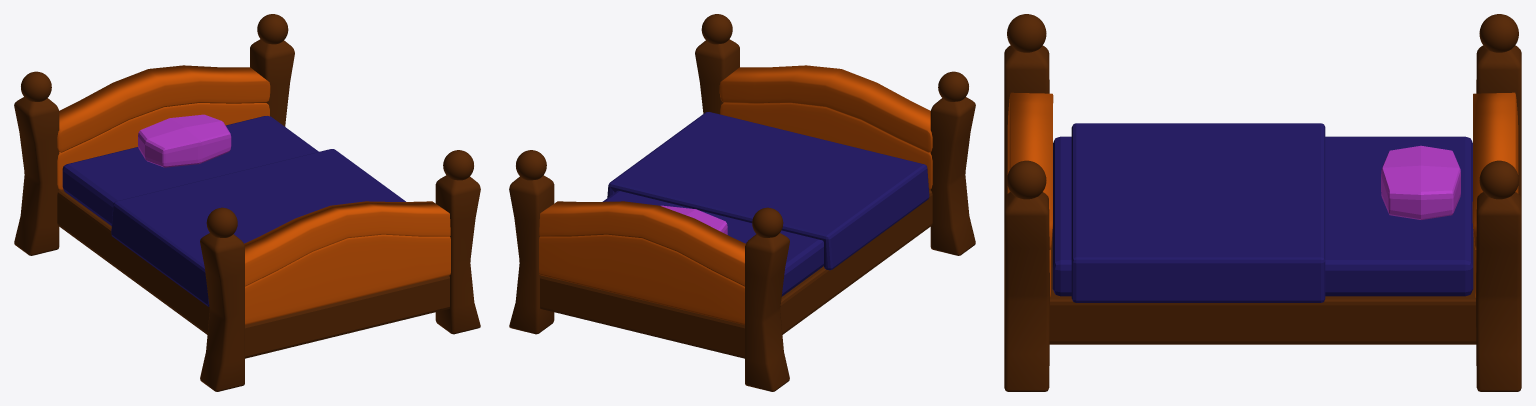
The model's file is cama_dibujo_animado.obj.
3 views of the same model, side by side, from view 1: azimuth 30°, elevation 25°; view 2: azimuth 150°, elevation 25°; view 3: azimuth 270°, elevation 25° (orthographic). The views are drawn at different scales.
Visible parts, largest first — view 1: head_board_and_foot_board, bed_legs, blanket, bed_base_, mattres, pillow; view 2: head_board_and_foot_board, blanket, bed_legs, bed_base_, mattres, pillow; view 3: blanket, bed_legs, mattres, bed_base_, head_board_and_foot_board, pillow.
Part boxes in pixels (x1,y1,x2,y2): head_board_and_foot_board: (57, 65, 450, 324); bed_legs: (14, 14, 480, 391); blanket: (111, 149, 405, 306); bed_base_: (57, 189, 449, 358); mattres: (62, 116, 318, 225); pillow: (138, 114, 231, 167); head_board_and_foot_board: (539, 65, 932, 324); blanket: (607, 112, 929, 270); bed_legs: (509, 14, 975, 391); bed_base_: (540, 189, 932, 358); mattres: (602, 190, 823, 296); pillow: (661, 205, 727, 234); blanket: (1071, 123, 1325, 302); bed_legs: (1004, 14, 1521, 391); mattres: (1052, 136, 1473, 296); bed_base_: (1049, 233, 1476, 344); head_board_and_foot_board: (1007, 92, 1518, 297); pillow: (1381, 145, 1460, 219).
Bounding box in the file's own units: 0.9898 × 0.6203 × 1.31.
